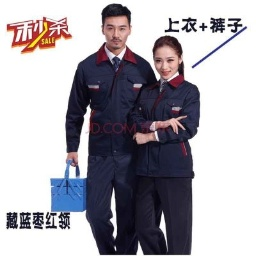face: (95, 1, 136, 53), (150, 33, 187, 84)
